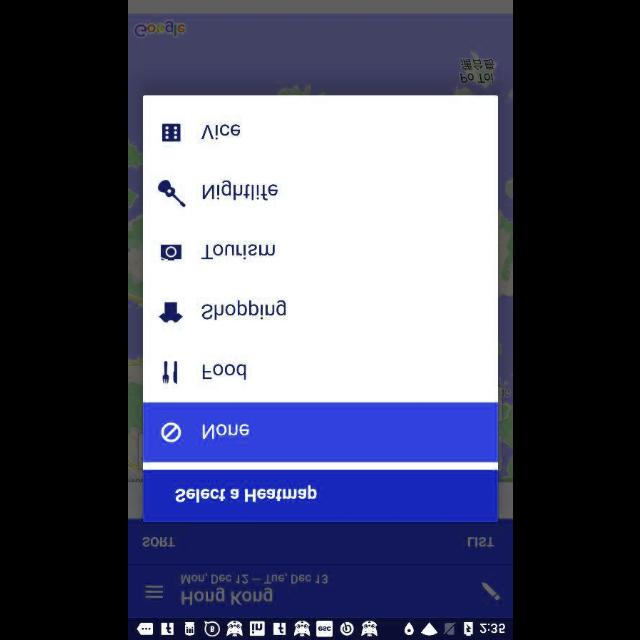icon: (480, 580, 500, 600), (160, 244, 182, 260), (162, 124, 180, 142), (144, 584, 164, 598)
image: (158, 180, 186, 207), (160, 302, 182, 322), (162, 422, 180, 442), (162, 361, 178, 383)
panel: (143, 95, 497, 522)
text: (174, 484, 316, 502), (181, 572, 327, 584), (201, 299, 285, 319), (181, 587, 273, 605), (201, 181, 277, 201), (201, 242, 275, 260), (201, 424, 249, 440), (202, 363, 246, 379), (200, 124, 240, 140), (142, 536, 176, 548), (466, 536, 494, 546)
uppertaskbar: (128, 617, 512, 639)
